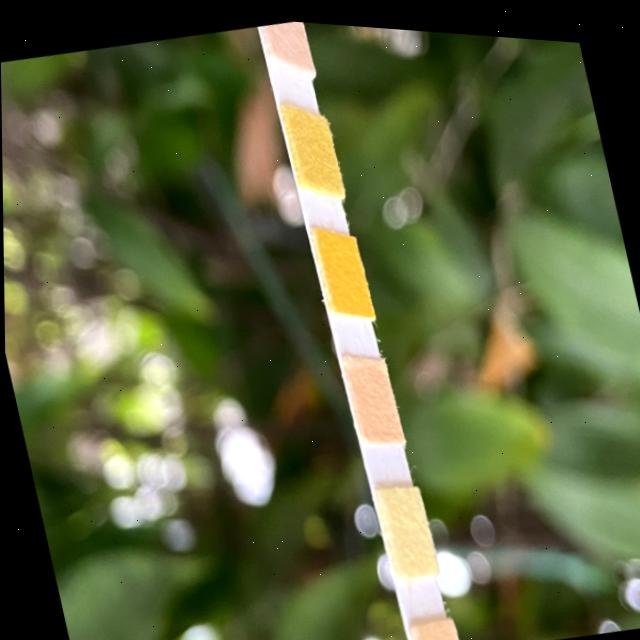Blood: (321, 234, 364, 300)
Ketone: (268, 16, 303, 52)
Protein: (380, 488, 428, 563)
SpGravity: (295, 113, 335, 178)
Urobilinogen: (416, 621, 454, 640)
pH: (348, 357, 397, 430)
